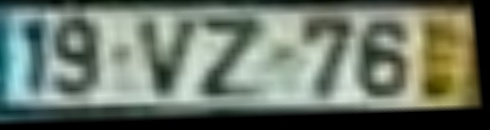1: (20, 15, 49, 103)
6: (359, 16, 414, 105)
7: (299, 14, 363, 107)
9: (51, 16, 104, 104)
V: (136, 17, 203, 105)
Z: (199, 17, 268, 106)
